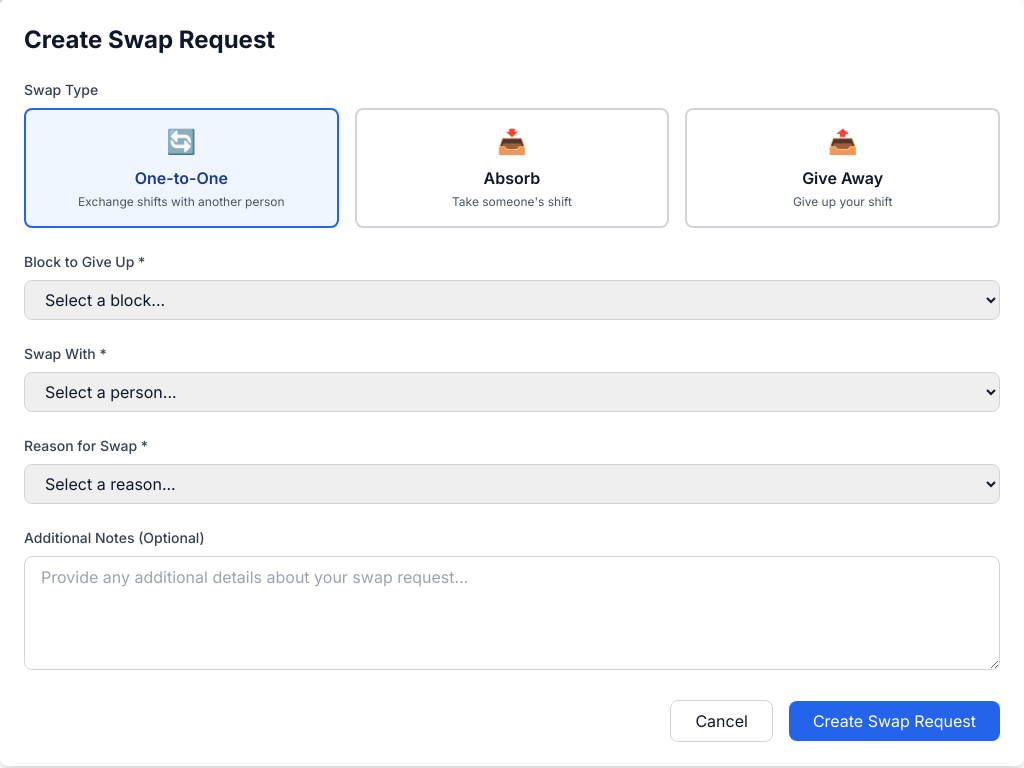
SwapRequestForm › Cancel Functionality › disables cancel button during submission
# Submit form
Click the button "📥 Absorb Take someone's shift". click: [512, 168]
box: [355,108,669,228]
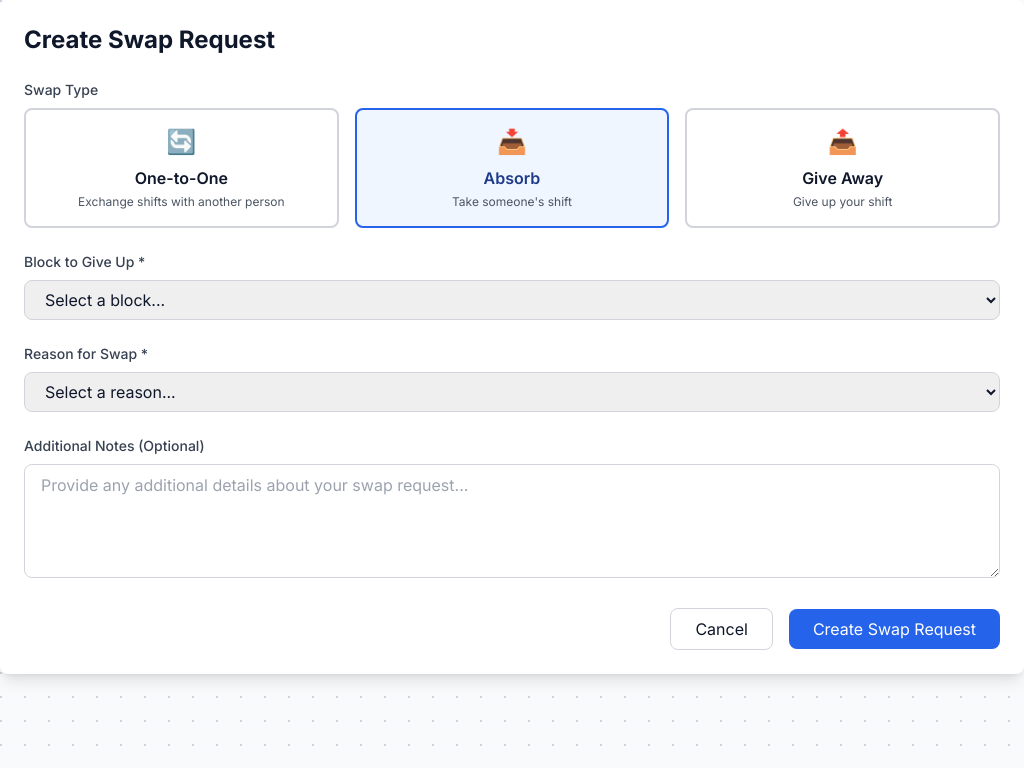
Select "1/15/2025 - AM - Inpatient" in the dropdown labelled "Block to Give Up *". click: [512, 300]
box: [24,280,1000,320]
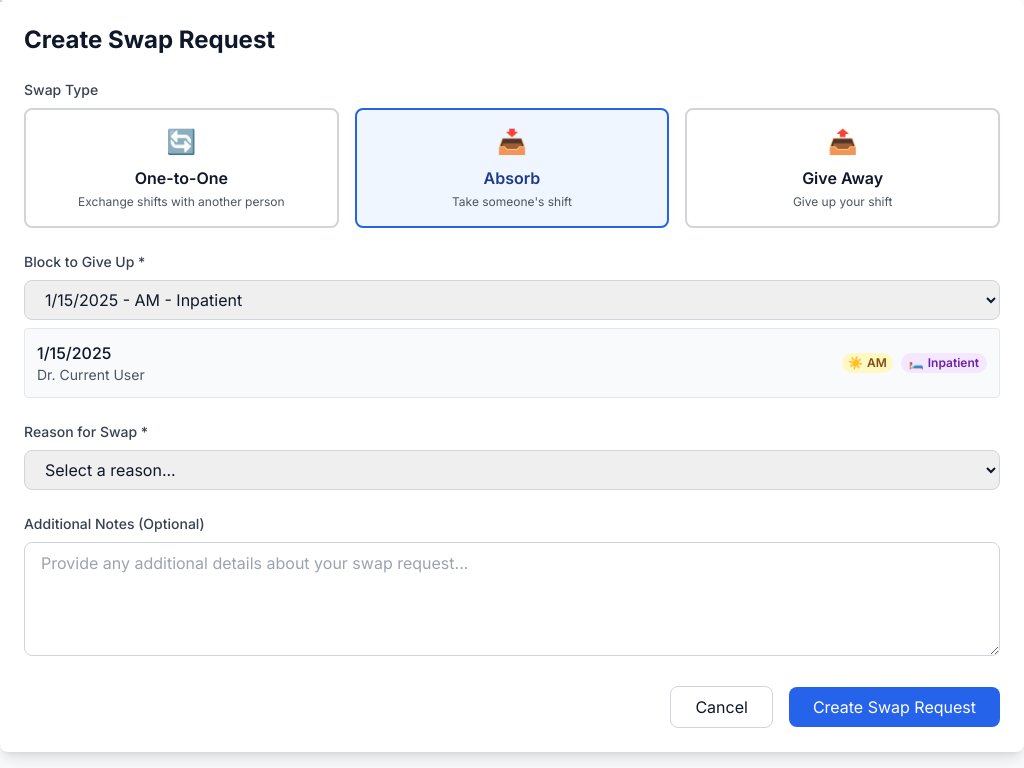
Select "Personal/Family Matter" in the dropdown labelled "Reason for Swap *". click: [512, 470]
box: [24,450,1000,490]
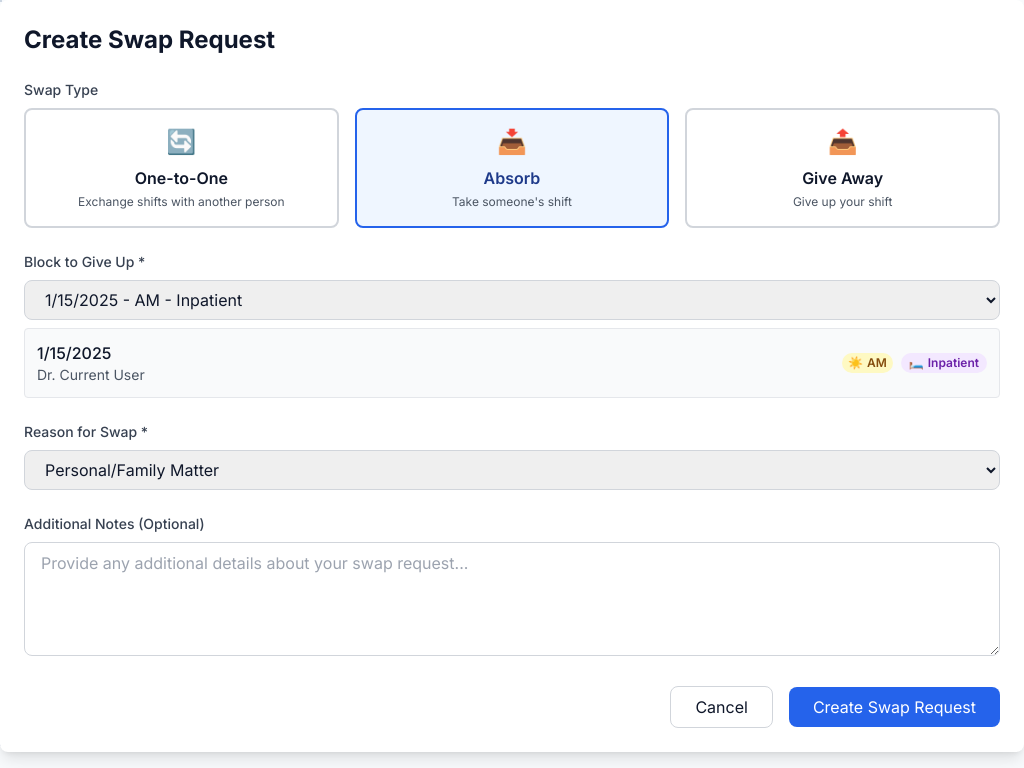
Click the button "Create Swap Request". click: [894, 707]
box: [789,687,1000,727]
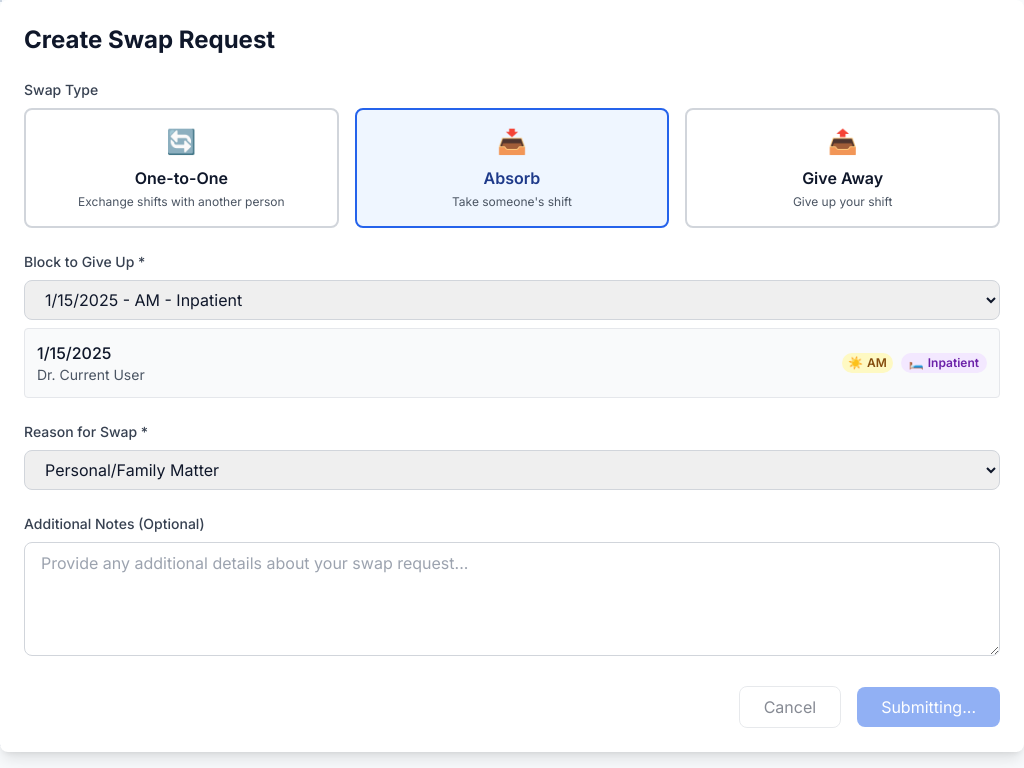
Now the button "Cancel" is disabled, box [739,686,841,728]
